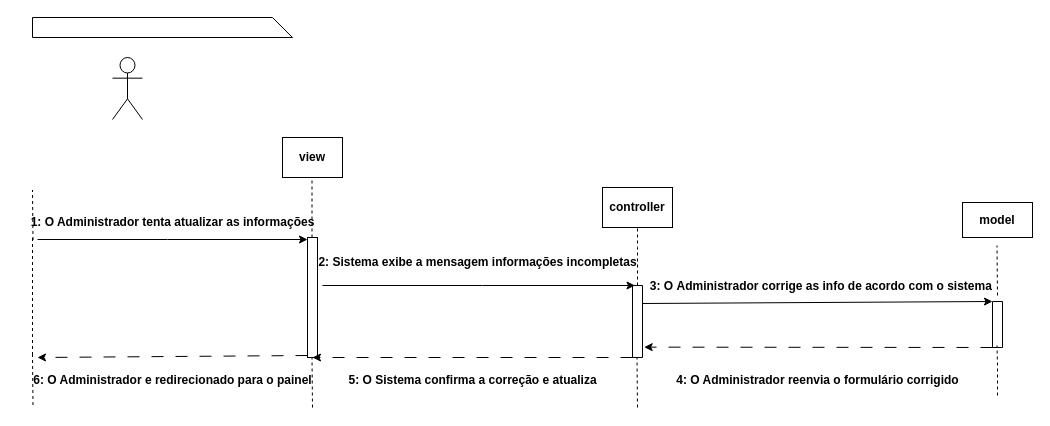
This 1050x426 diagram has some shape labels left out. The box of each missing label's shape, as (x1, y1, x2, y2) in pixels:
Lifeline 1: Administrador: (112, 56, 142, 120)
sd CDU 08 - Atualizar Info de Filmes: (32, 16, 292, 38)
